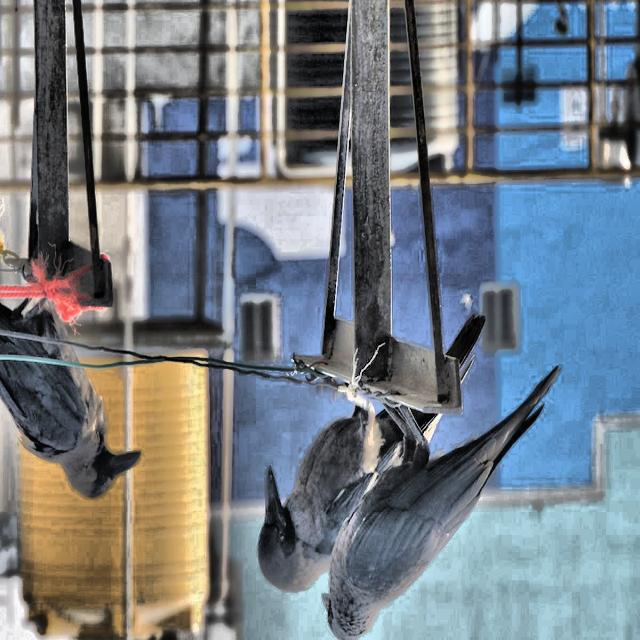crow: (2, 284, 562, 640)
